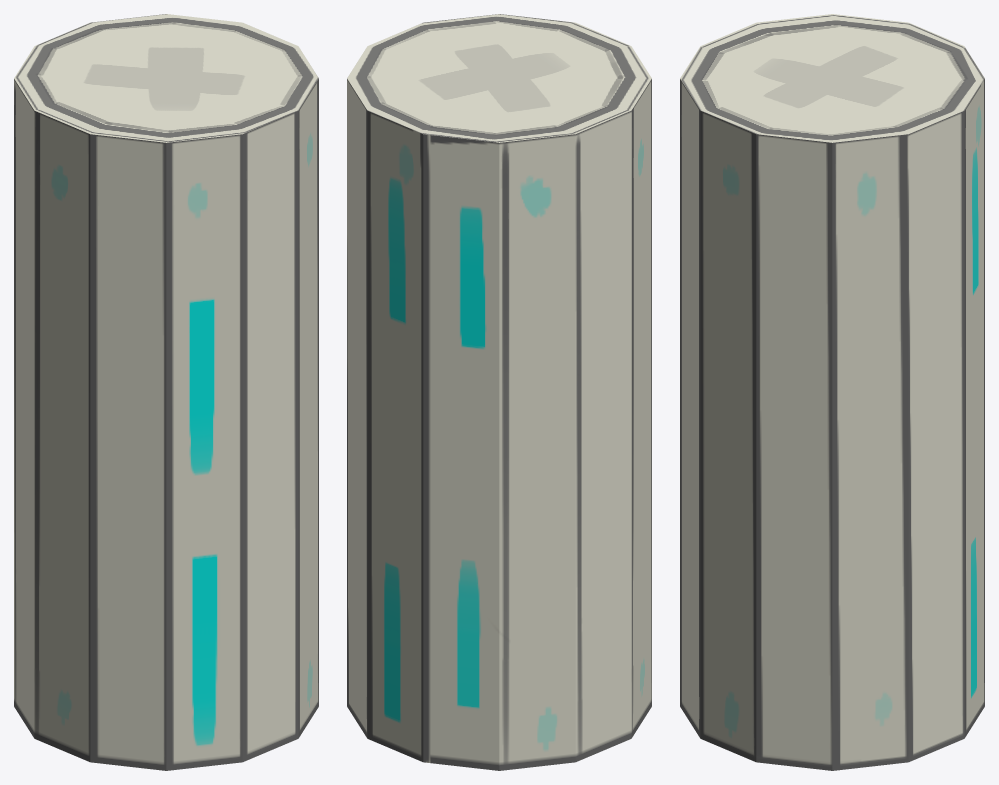
Rendered from tanqueoxigenio.glb.
The picture shows the model from 3 angles, left to right: view 1: azimuth 30°, elevation 25°; view 2: azimuth 150°, elevation 25°; view 3: azimuth 270°, elevation 25°; orthographic projection.
Visible parts, largest first — view 1: Cylinder; view 2: Cylinder; view 3: Cylinder.
Boxes of the visible parts, x1,y1,x2,y2 form: Cylinder: [14, 14, 318, 770]; Cylinder: [347, 14, 651, 770]; Cylinder: [680, 14, 984, 770].
Size of the model in its own units: 0.22 by 0.5 by 0.22.
1 material, 1 textured.
